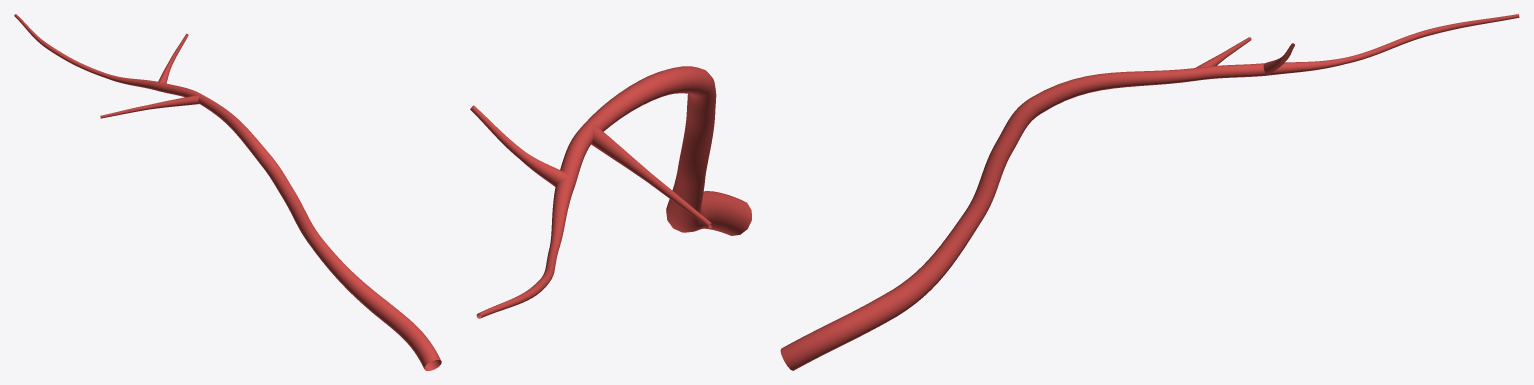
3 renders of one model, left to right at view 1: azimuth 30°, elevation 25°; view 2: azimuth 150°, elevation 25°; view 3: azimuth 270°, elevation 25°, orthographic. The views are drawn at different scales.
Parts seen in each view (by area): view 1: 右侧臀下动脉; view 2: 右侧臀下动脉; view 3: 右侧臀下动脉.
Part boxes in pixels (x1,y1,x2,y2): 右侧臀下动脉: (14,14,441,370); 右侧臀下动脉: (470,66,751,318); 右侧臀下动脉: (780,14,1519,370).
Bounding box in the file's own units: 0.0604 × 0.0735 × 0.1708.
